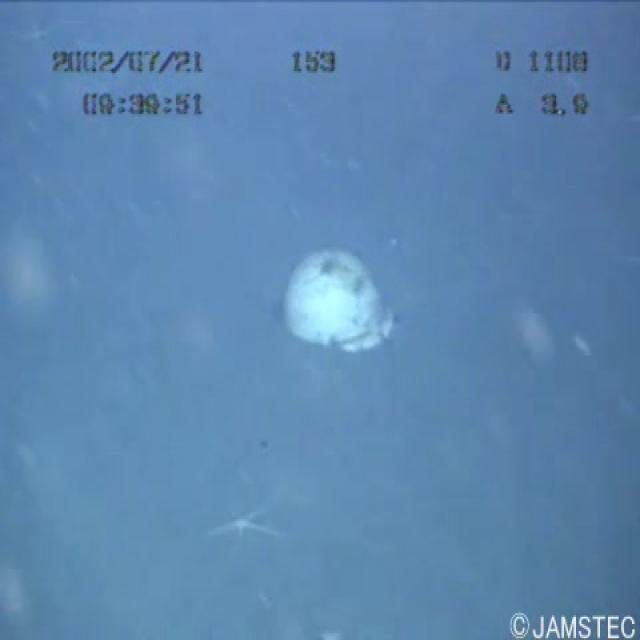plastic: (245, 215, 426, 368)
